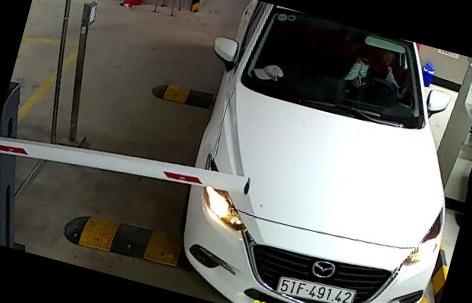plate: (270, 269, 361, 303)
